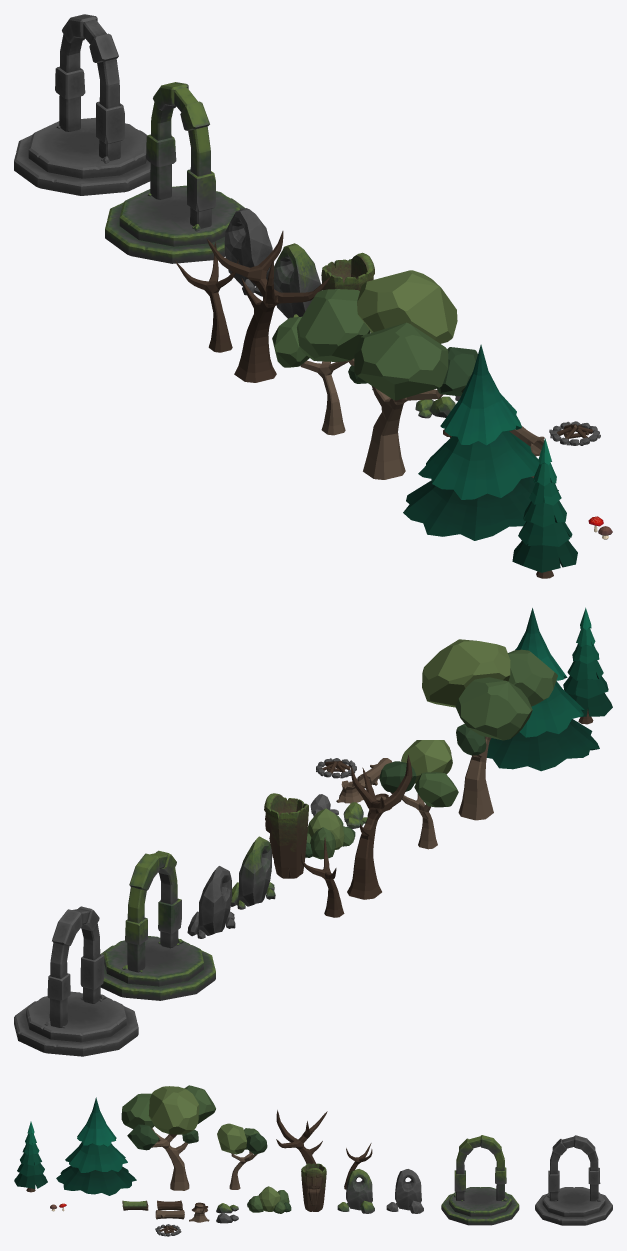
Rendered from MEGABONCZEK ASSETS.fbx.
The picture shows the model from 3 angles, top to bottom: view 1: azimuth 30°, elevation 25°; view 2: azimuth 150°, elevation 25°; view 3: azimuth 270°, elevation 25°; orthographic projection. The views are drawn at different scales.
Visible parts, largest first — view 1: Cylinder.002, Icosphere.012, Cube.007, Circle.007, Circle.004, Cube.001, Cylinder.001, Cube.005, Cube.002, Circle.008, Cylinder.010, Icosphere.017 (+10 smaller); view 2: Cylinder.002, Icosphere.012, Cube.001, Cube.002, Circle.004, Cylinder.003, Cube.005, Cylinder.001, Cylinder.010, Icosphere.017, Icosphere.013, Cylinder.006 (+13 smaller); view 3: Cylinder.002, Icosphere.012, Cube.001, Circle.004, Circle.007, Cylinder.001, Cylinder.003, Circle.008, Cube, Icosphere.015, Icosphere.004, Icosphere.005 (+17 smaller).
Boxes of the visible parts, left/top/right/bottom form: Cylinder.002: left=14, top=117, right=150, bottom=195; Icosphere.012: left=105, top=185, right=245, bottom=263; Cube.007: left=354, top=322, right=448, bottom=400; Circle.007: left=418, top=431, right=539, bottom=499; Circle.004: left=403, top=477, right=558, bottom=540; Cube.001: left=357, top=270, right=457, bottom=343; Cylinder.001: left=512, top=438, right=577, bottom=572; Cube.005: left=207, top=231, right=330, bottom=382; Cube.002: left=297, top=289, right=370, bottom=361; Circle.008: left=440, top=344, right=521, bottom=445; Cylinder.010: left=55, top=14, right=124, bottom=143; Icosphere.017: left=146, top=82, right=215, bottom=211; Cylinder.002: left=14, top=991, right=138, bottom=1056; Icosphere.012: left=100, top=936, right=215, bottom=1000; Cube.001: left=422, top=639, right=510, bottom=707; Cube.002: left=455, top=677, right=532, bottom=740; Circle.004: left=487, top=719, right=599, bottom=771; Cylinder.003: left=264, top=793, right=308, bottom=878; Cube.005: left=347, top=754, right=412, bottom=899; Cylinder.001: left=563, top=607, right=612, bottom=716; Cylinder.010: left=47, top=906, right=104, bottom=1000; Icosphere.017: left=125, top=850, right=181, bottom=944; Icosphere.013: left=127, top=853, right=178, bottom=972; Cylinder.006: left=49, top=908, right=100, bottom=1027; Cylinder.002: left=535, top=1187, right=612, bottom=1225; Icosphere.012: left=441, top=1187, right=519, bottom=1225; Cube.001: left=148, top=1086, right=199, bottom=1134; Circle.004: left=56, top=1165, right=136, bottom=1195; Circle.007: left=65, top=1142, right=127, bottom=1172; Cylinder.001: left=14, top=1121, right=47, bottom=1188; Cylinder.003: left=301, top=1163, right=326, bottom=1211; Circle.008: left=77, top=1097, right=116, bottom=1146; Cube: left=151, top=1128, right=189, bottom=1190; Icosphere.015: left=247, top=1186, right=291, bottom=1213; Icosphere.004: left=346, top=1169, right=372, bottom=1210; Icosphere.005: left=395, top=1169, right=421, bottom=1210.
Bounding box in the file's own units: 632 × 434 × 2351.
31 materials, 31 textured.
